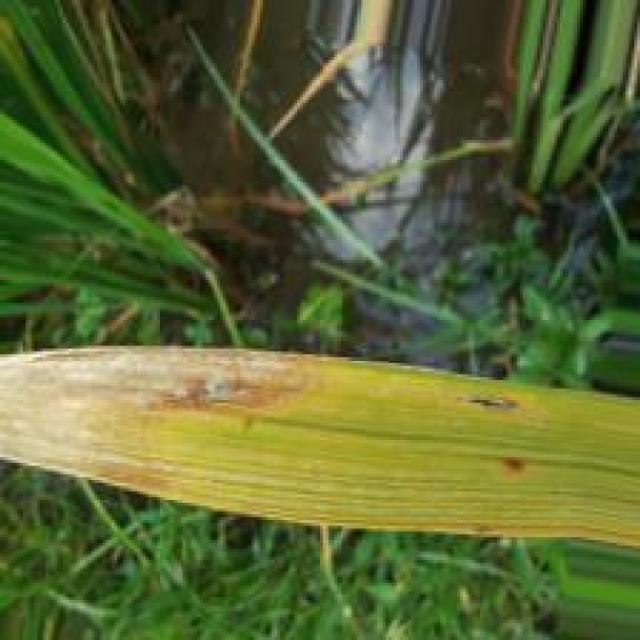Leaf_Scald: (0, 346, 326, 497)
